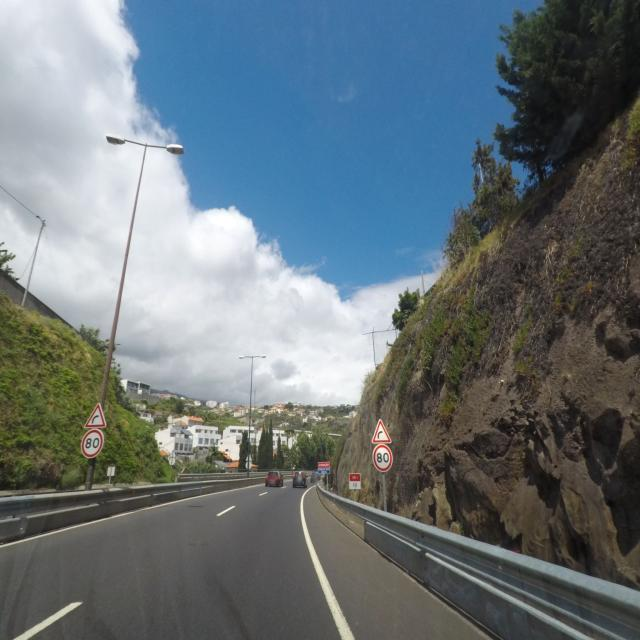car: (265, 470, 284, 488), (292, 472, 308, 488), (304, 470, 314, 481)
